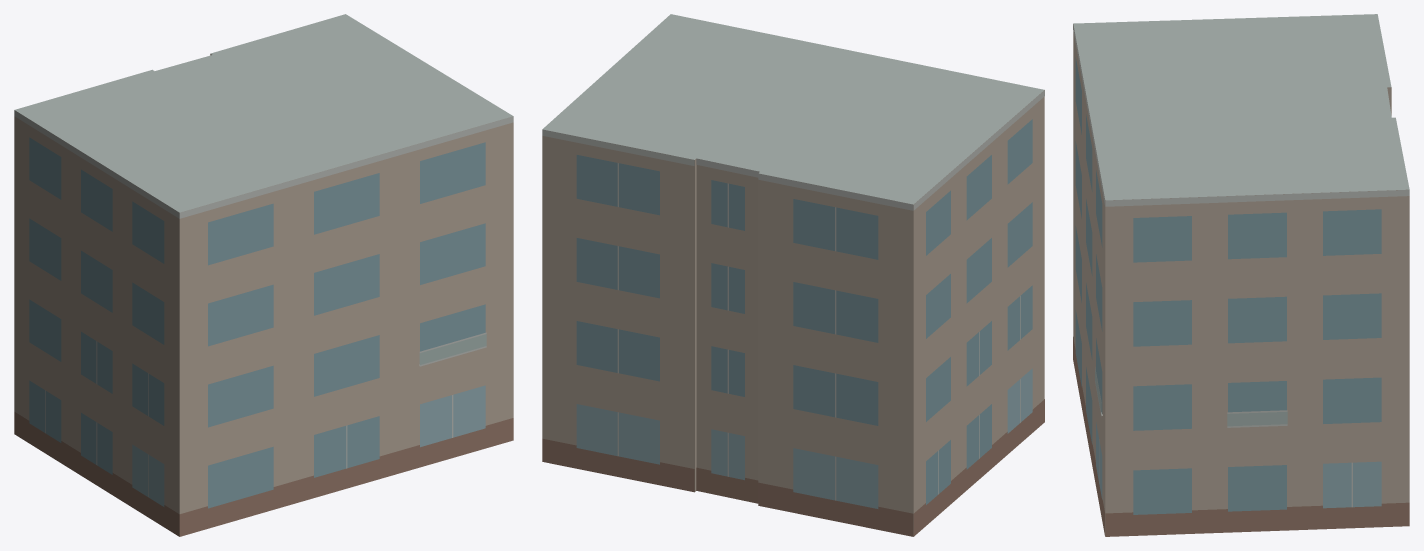
Rendered from survey-upis-33021544.glb.
3 renders of one model, left to right at view 1: azimuth 30°, elevation 25°; view 2: azimuth 150°, elevation 25°; view 3: azimuth 270°, elevation 25°, orthographic. The views are drawn at different scales.
Parts seen in each view (by area): view 1: survey-upis-33021544.tmp; view 2: survey-upis-33021544.tmp; view 3: survey-upis-33021544.tmp.
Part boxes in pixels (<box>): survey-upis-33021544.tmp: <box>14,14,513,536</box>; survey-upis-33021544.tmp: <box>542,14,1044,536</box>; survey-upis-33021544.tmp: <box>1073,14,1409,536</box>.
Size of the model in its own units: 15.22 by 12.8 by 11.61.
